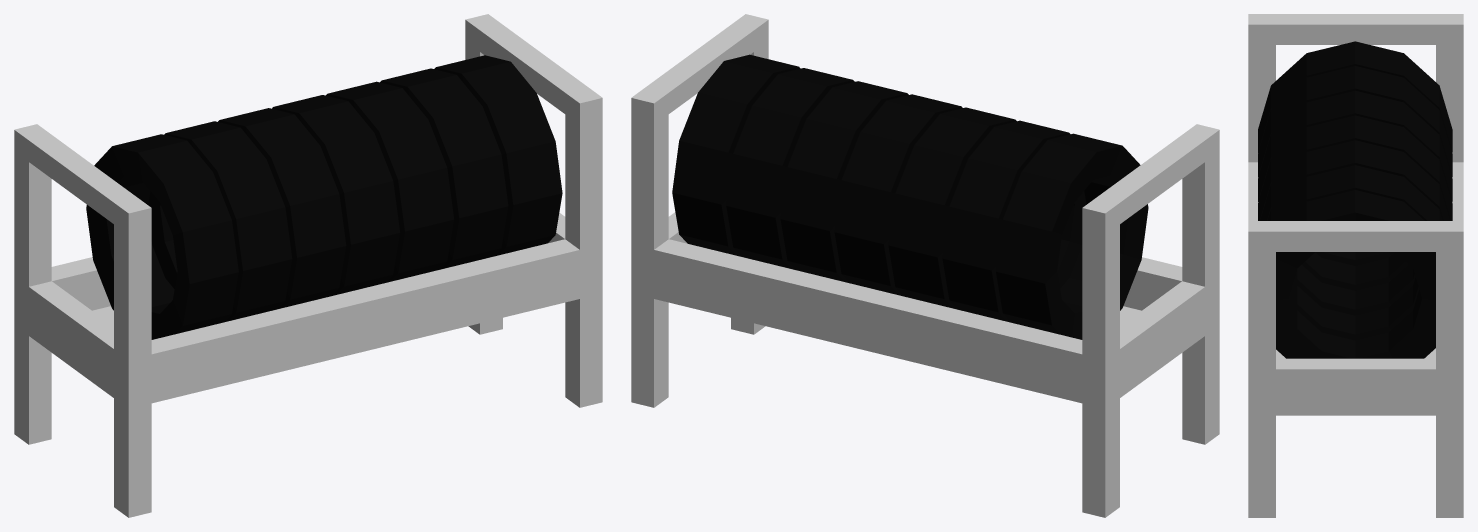
The model's file is Me_Tires_Group.fbx.
3 views of the same model, side by side, from view 1: azimuth 30°, elevation 25°; view 2: azimuth 150°, elevation 25°; view 3: azimuth 270°, elevation 25° (orthographic). The views are drawn at different scales.
Parts seen in each view (by area): view 1: Me_Tires_Group; view 2: Me_Tires_Group; view 3: Me_Tires_Group.
Boxes of the visible parts, box(x1,y1,x2,y2) form: Me_Tires_Group: box(14, 14, 602, 517); Me_Tires_Group: box(631, 14, 1219, 517); Me_Tires_Group: box(1248, 14, 1463, 517).
Size of the model in its own units: 1245 by 521 by 772.
